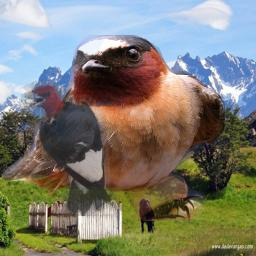Swallow: (2, 35, 225, 221)
Woodpecker: (21, 79, 118, 216)
